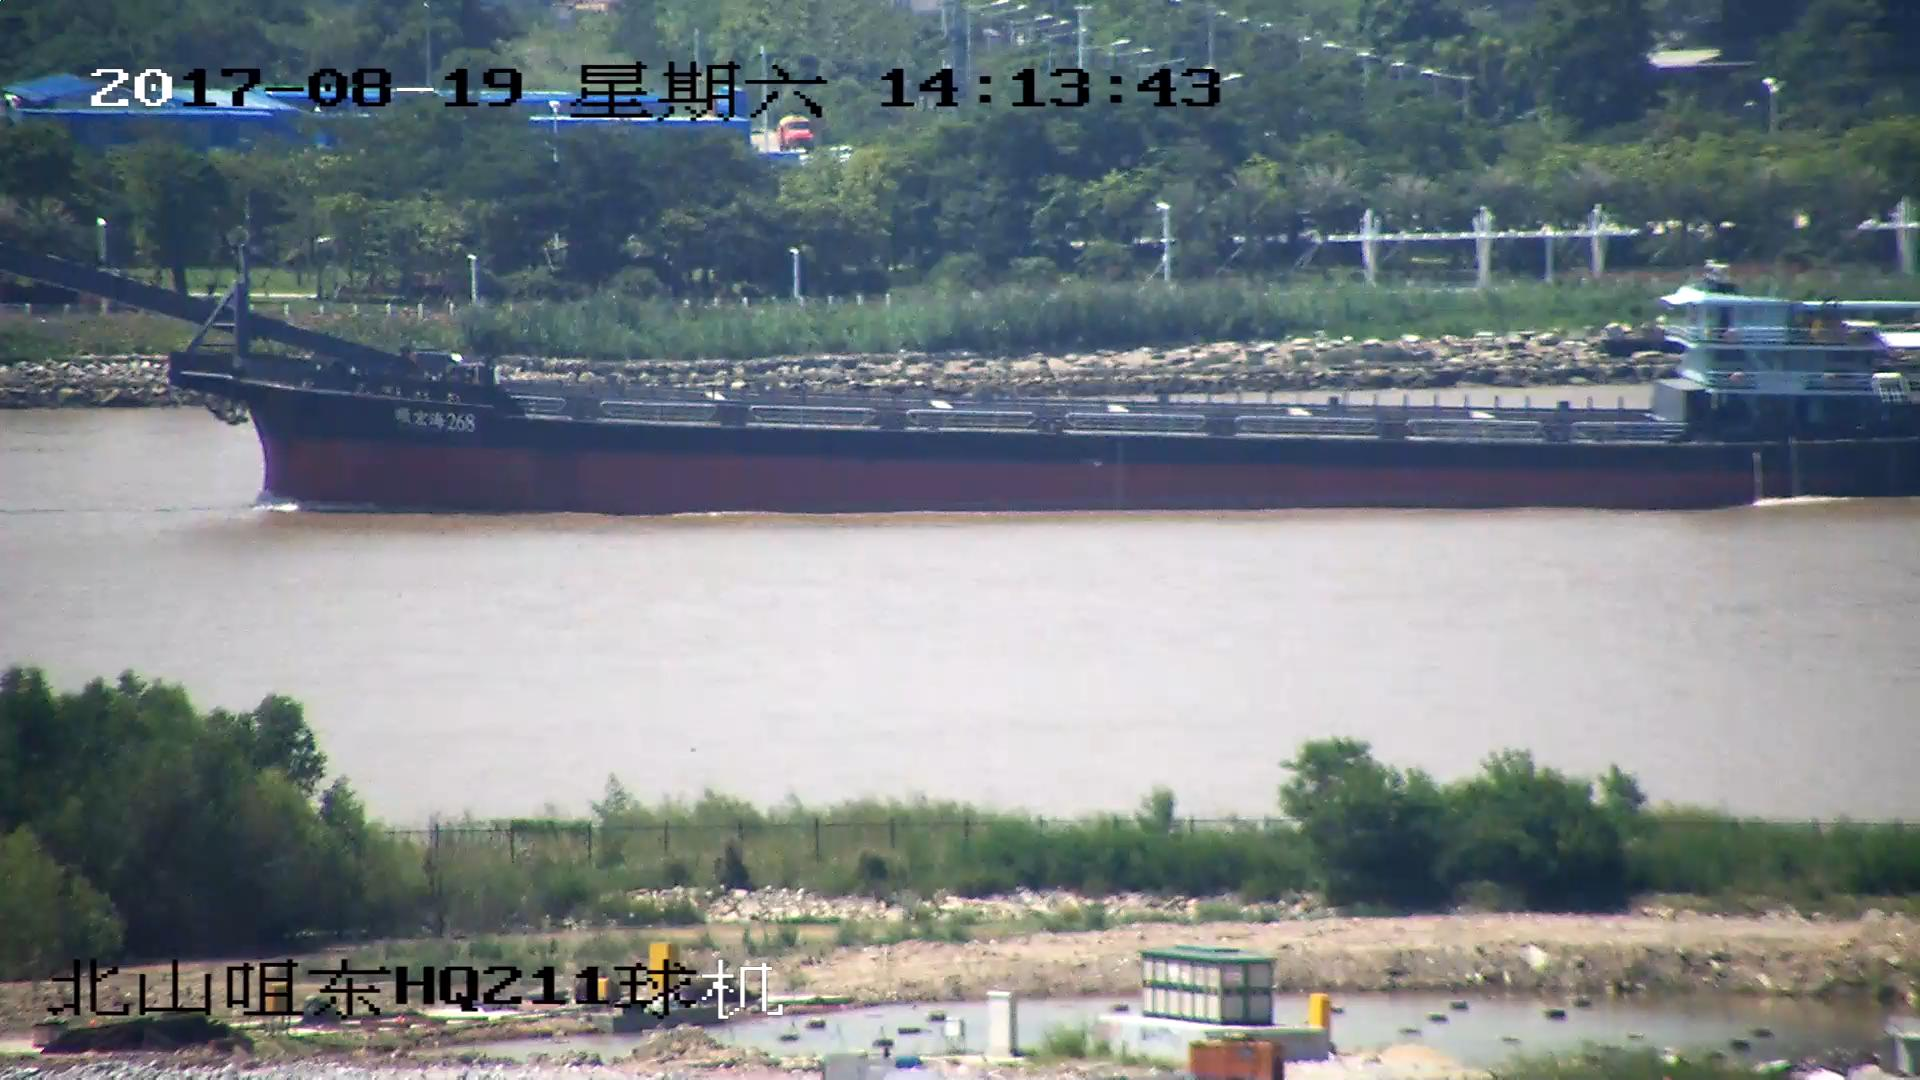bulk cargo carrier: (1, 236, 1920, 516)
